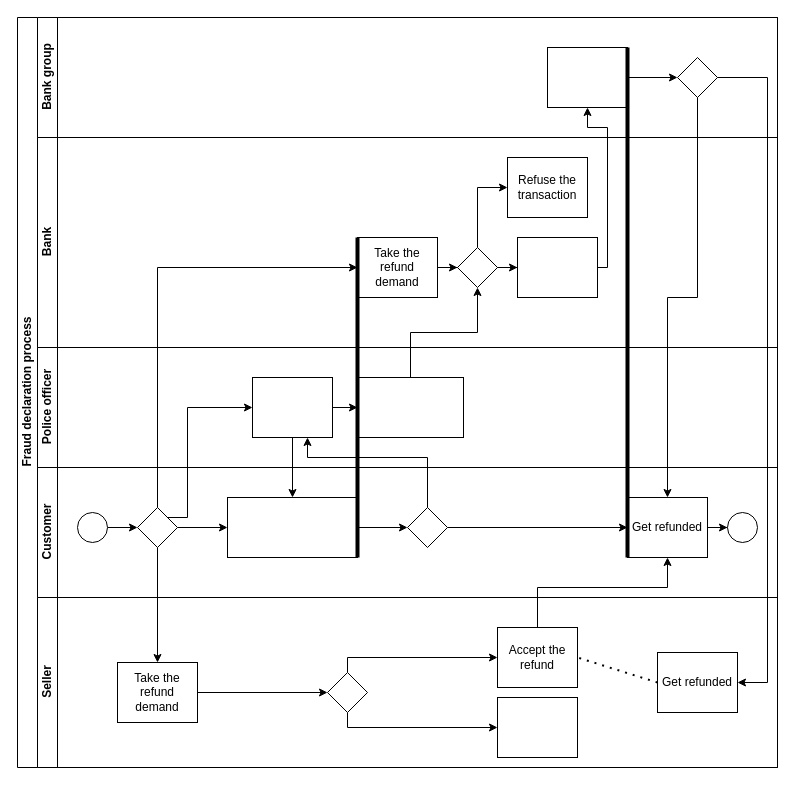
Some shapes in this 795 by 785 pixel diagram are drawn without their labels. Here are the shapes that lost their labels. From the top down, the centre of each, then its label:
At [587,77]: "Validate the refund transaction".
At [557,267]: "Validate the transaction".
At [292,407]: "Take the claim".
At [410,407]: "Validate the claim transaction".
At [292,527]: "Create the contract".
At [537,727]: "Refuse the refund".
